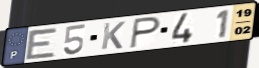1: (216, 9, 231, 39)
4: (170, 11, 194, 45)
5: (63, 23, 88, 56)
E: (24, 27, 60, 61)
K: (100, 21, 128, 51)
P: (128, 16, 163, 50)
